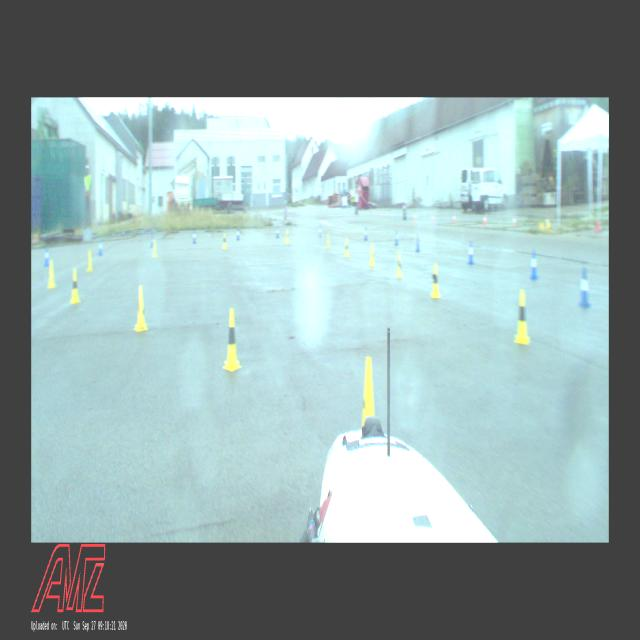blue_cone: (578, 267, 590, 308), (530, 250, 538, 280), (468, 242, 474, 265), (44, 246, 50, 266), (98, 238, 103, 256), (393, 228, 398, 244), (235, 228, 241, 240), (192, 230, 196, 244), (364, 226, 368, 240)
yellow_cone: (222, 308, 242, 372), (361, 357, 375, 430), (514, 290, 530, 344), (134, 286, 148, 332), (430, 263, 440, 298), (70, 270, 80, 304), (48, 261, 56, 288), (369, 245, 375, 267), (86, 250, 92, 272), (397, 252, 402, 278), (152, 238, 156, 258), (344, 239, 348, 257), (222, 233, 226, 249), (286, 230, 290, 243)
